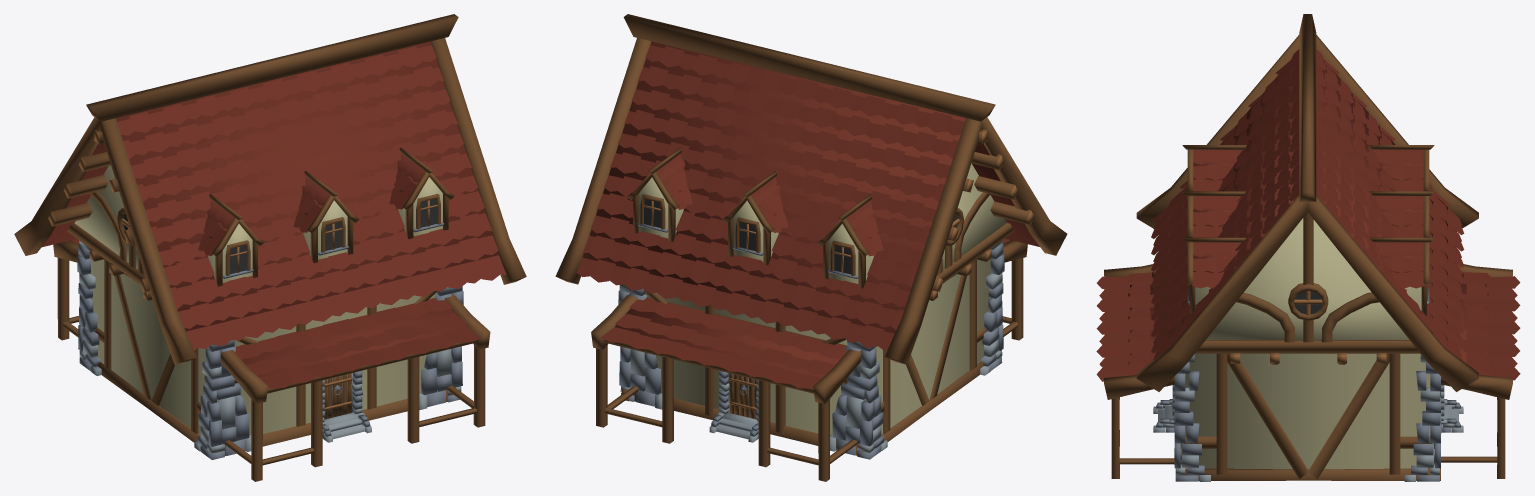
File: inn.glb
3 views of the same model, side by side, from view 1: azimuth 30°, elevation 25°; view 2: azimuth 150°, elevation 25°; view 3: azimuth 270°, elevation 25° (orthographic).
Parts seen in each view (by area): view 1: Inn; view 2: Inn; view 3: Inn.
Boxes of the visible parts, left/top/right/bottom form: Inn: left=14, top=14, right=526, bottom=481; Inn: left=555, top=14, right=1067, bottom=481; Inn: left=1096, top=14, right=1520, bottom=481.
Size of the model in its own units: 12 by 10 by 12.
